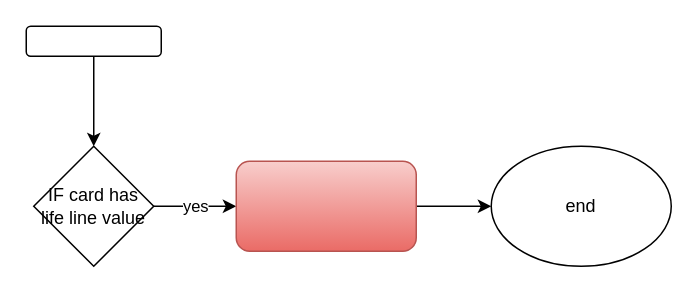
This 698x293 diagram has some shape labels left out. The centre of each missing label's shape, as x and y in pixels:
call reduceLifeAndHp: (325,205)
start: (93,40)
